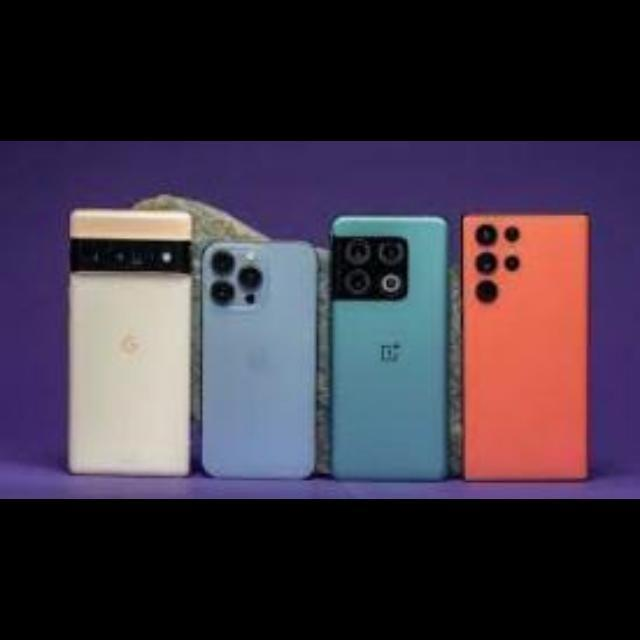PhoneUse: (462, 214, 590, 478), (68, 210, 188, 476), (332, 214, 450, 482), (202, 240, 314, 480)
